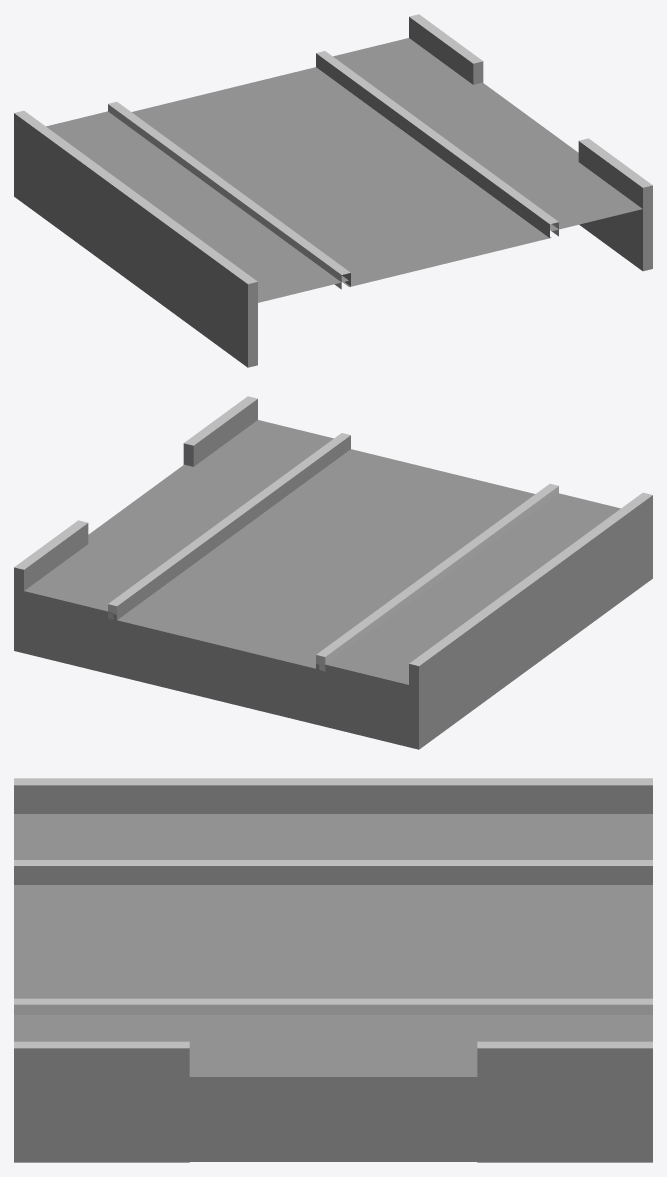
File: port_tile_1x1_004.fbx
The picture shows the model from 3 angles, top to bottom: view 1: azimuth 30°, elevation 25°; view 2: azimuth 150°, elevation 25°; view 3: azimuth 270°, elevation 25°; orthographic projection. The views are drawn at different scales.
Visible parts, largest first — view 1: port_tile_1x1_004; view 2: port_tile_1x1_004; view 3: port_tile_1x1_004.
Boxes of the visible parts, left/top/right/bottom form: port_tile_1x1_004: left=14, top=14, right=652, bottom=367; port_tile_1x1_004: left=14, top=396, right=652, bottom=749; port_tile_1x1_004: left=14, top=778, right=652, bottom=1162.
Size of the model in its own units: 800 by 158 by 800.
